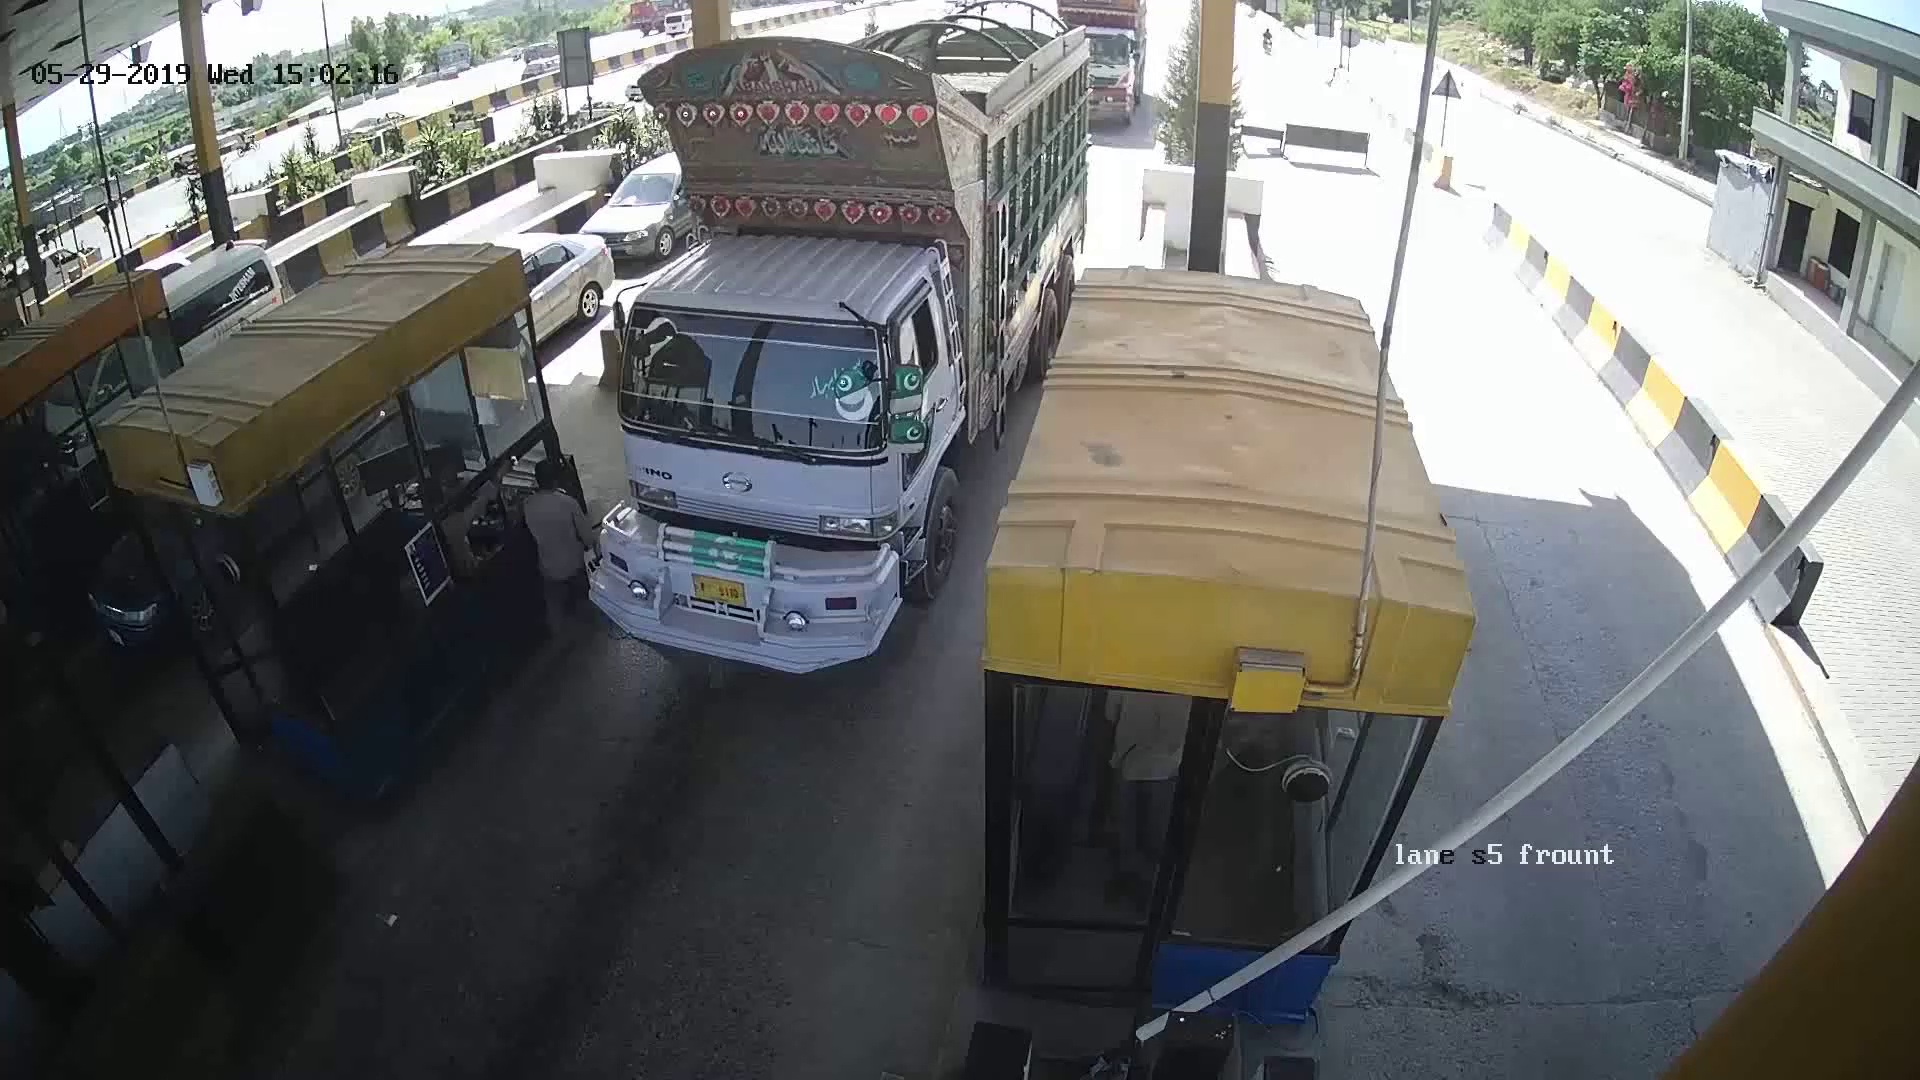truck: (609, 58, 1025, 632)
